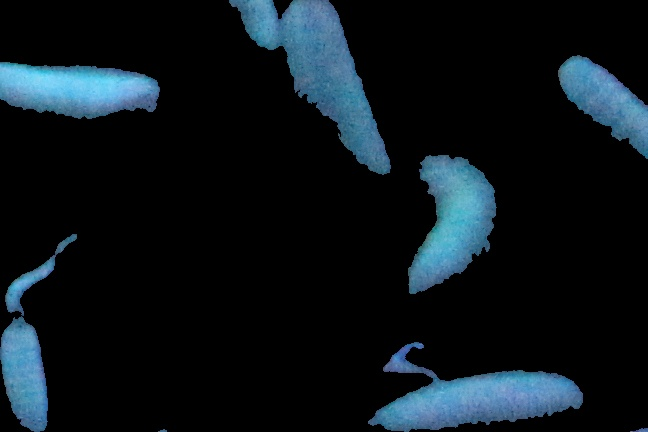larvae: (280, 1, 398, 187), (405, 153, 497, 299), (365, 373, 589, 432), (546, 48, 648, 169), (1, 58, 162, 124), (1, 319, 52, 432), (222, 1, 280, 63)
